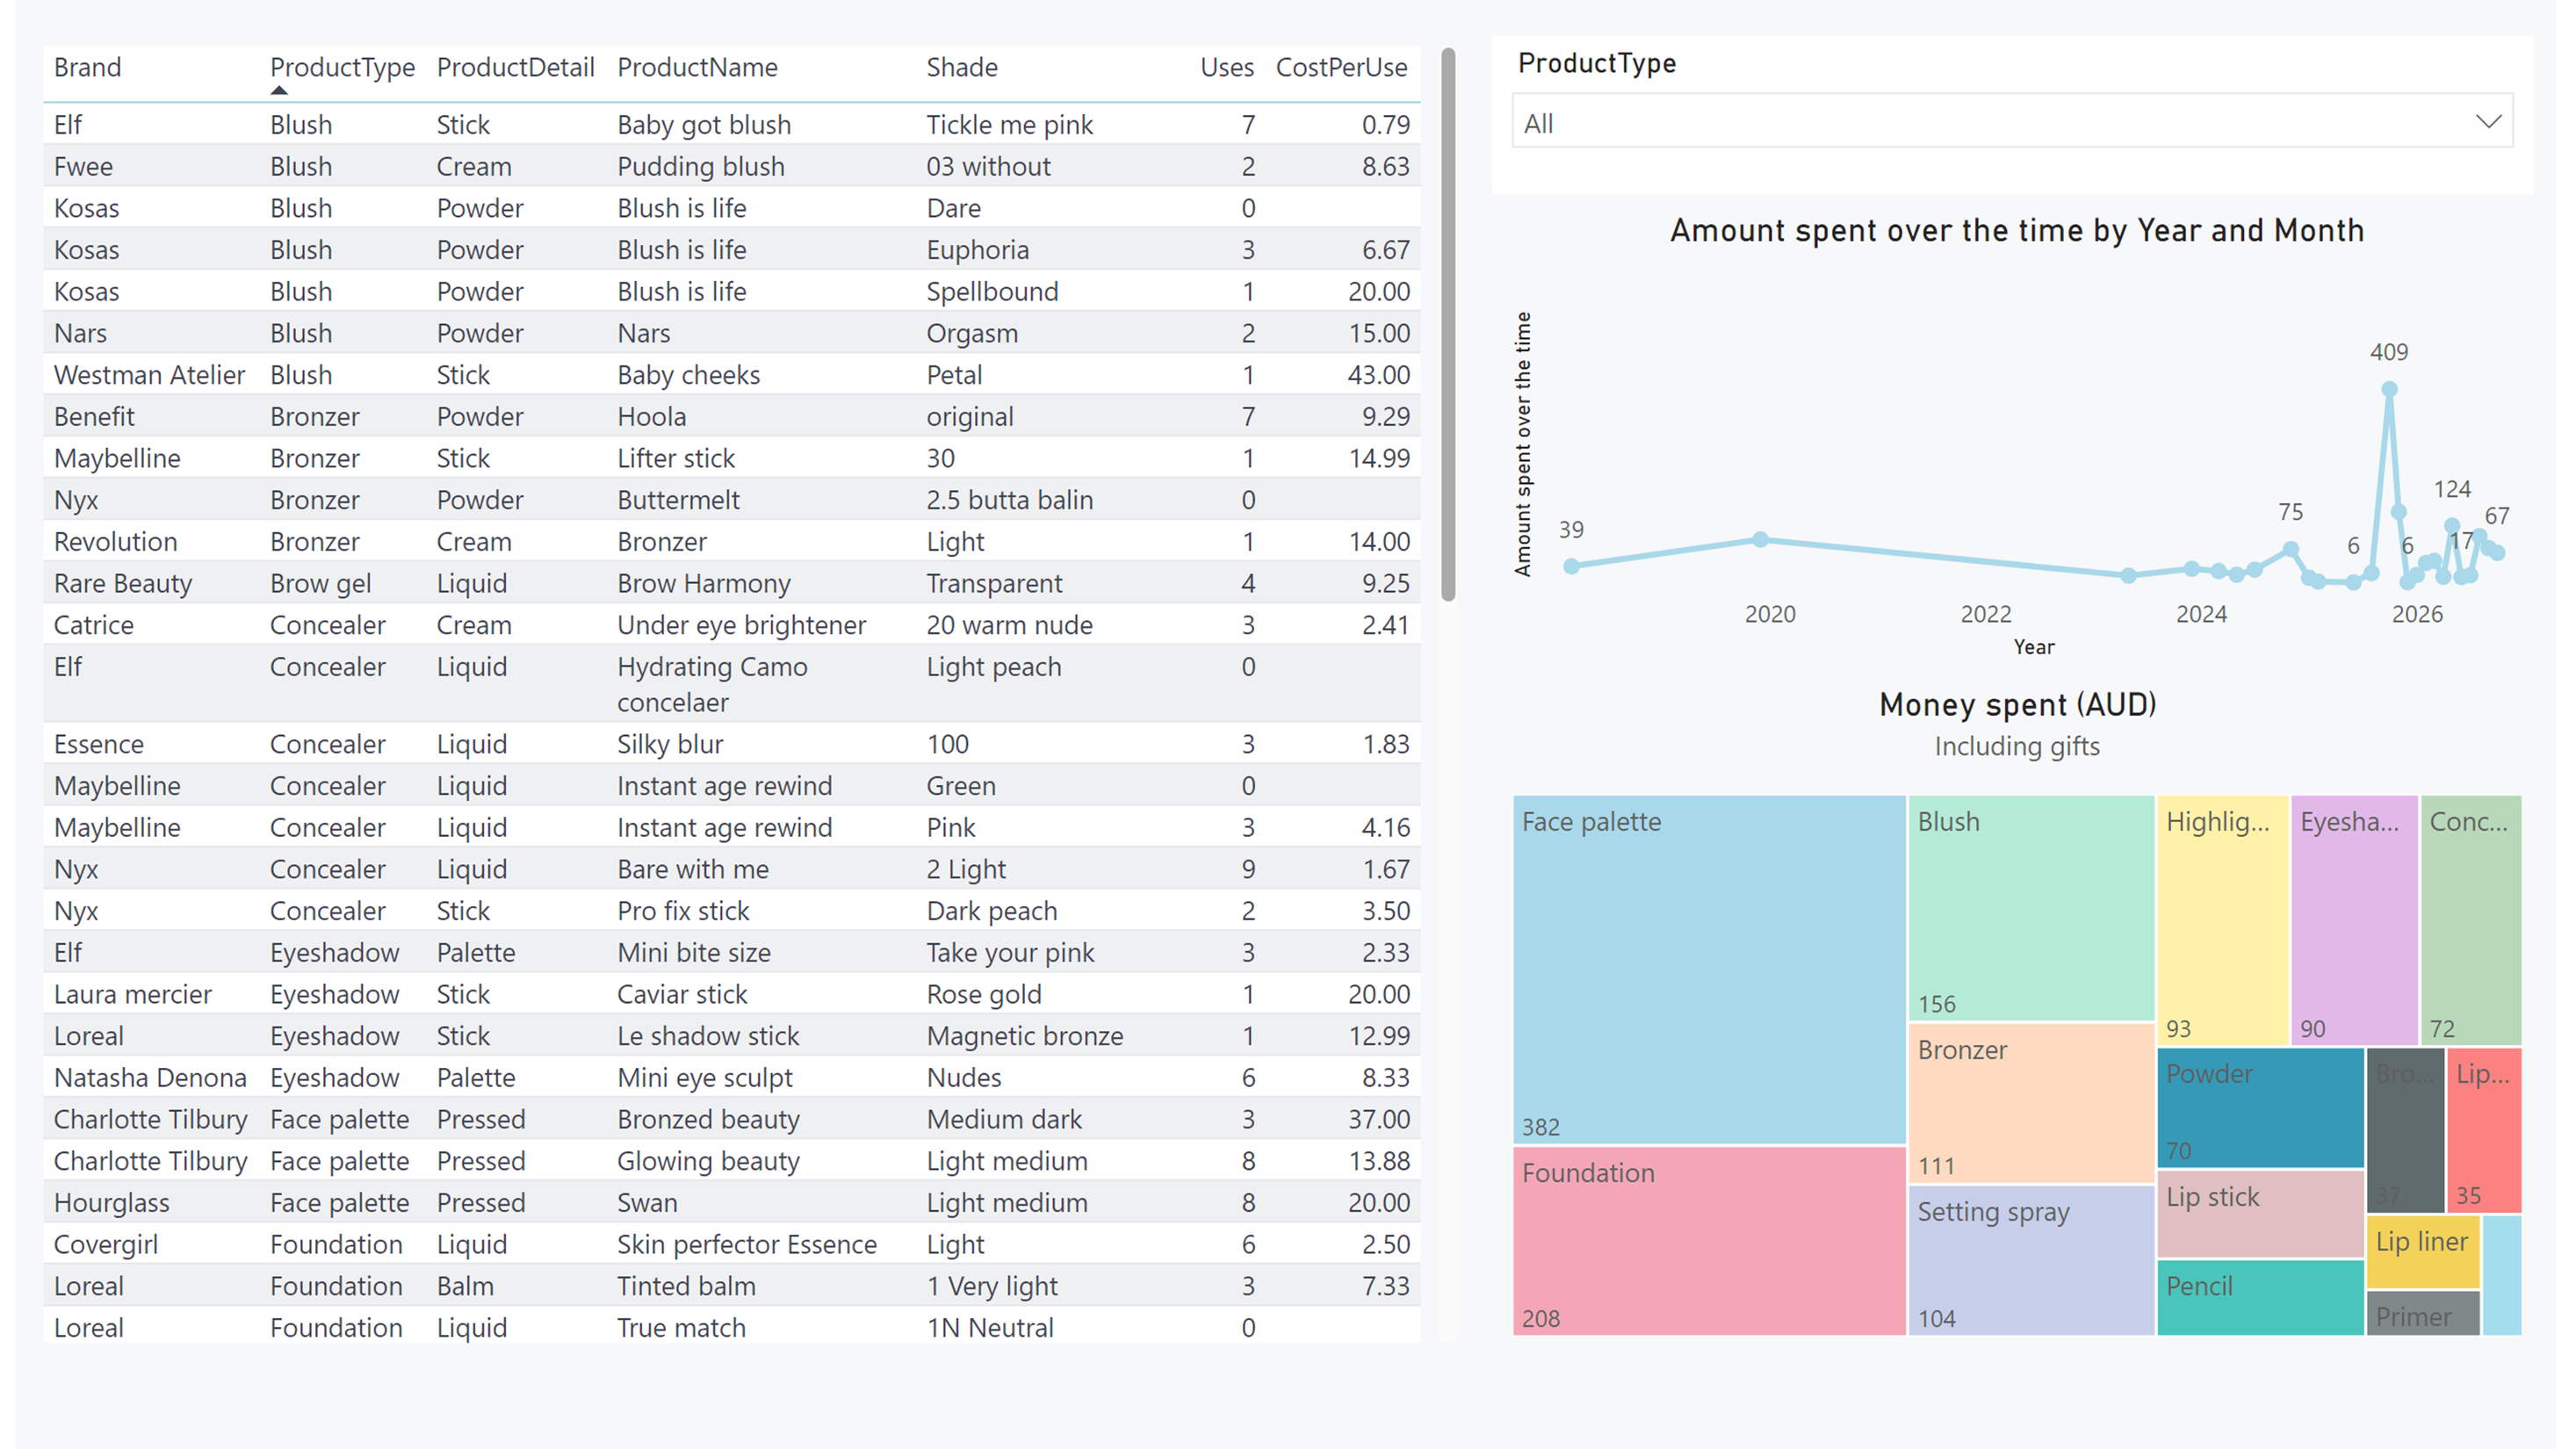

This screenshot's page, from the dashboard's own definition file:
{"tool":"powerbi","page":{"name":"Finances","canvas":[1280,720],"ordinal":1},"visuals":[{"type":"treemap","title":"Money spent (AUD)","fields":{"Group":["Products.ProductType"],"Values":["Sum(Products.PriceAUD)"]},"box":[531,345.2,737.9,333.1],"z":0},{"type":"tableEx","fields":{"Values":["Products.Brand","Products.ProductType","Products.ProductName","Sum(Usage log.UsesSeptember)","Products.CostPerUse"]},"box":[8.1,18.2,500.7,663.2],"z":1000},{"type":"lineChart","fields":{"Category":["Products.PurchaseDate.Variation.Date Hierarchy.Year","Products.PurchaseDate.Variation.Date Hierarchy.Month"],"Y":["Sum(Products.PriceAUD)"]},"box":[531,18.2,737.9,319],"z":2000}]}

Visuals, with their boxes in screenshot pixels (x1, y1, x2, y2), scaled from the page's 1280x720 canvas onto the 2576x1449 screenshot:
"Money spent (AUD)" treemap: 1069, 695, 2554, 1365
tableEx - Products.Brand x Products.ProductType: 17, 37, 1024, 1372
lineChart - Products.PurchaseDate.Variation.Date Hierarchy.Year x Products.PurchaseDate.Variation.Date Hierarchy.Month: 1069, 37, 2554, 679
